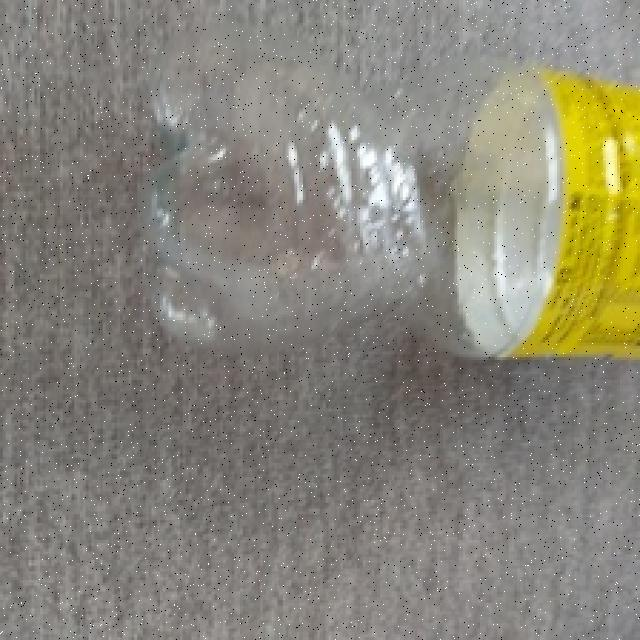bottle: (109, 17, 640, 380)
label: (451, 60, 640, 377)
